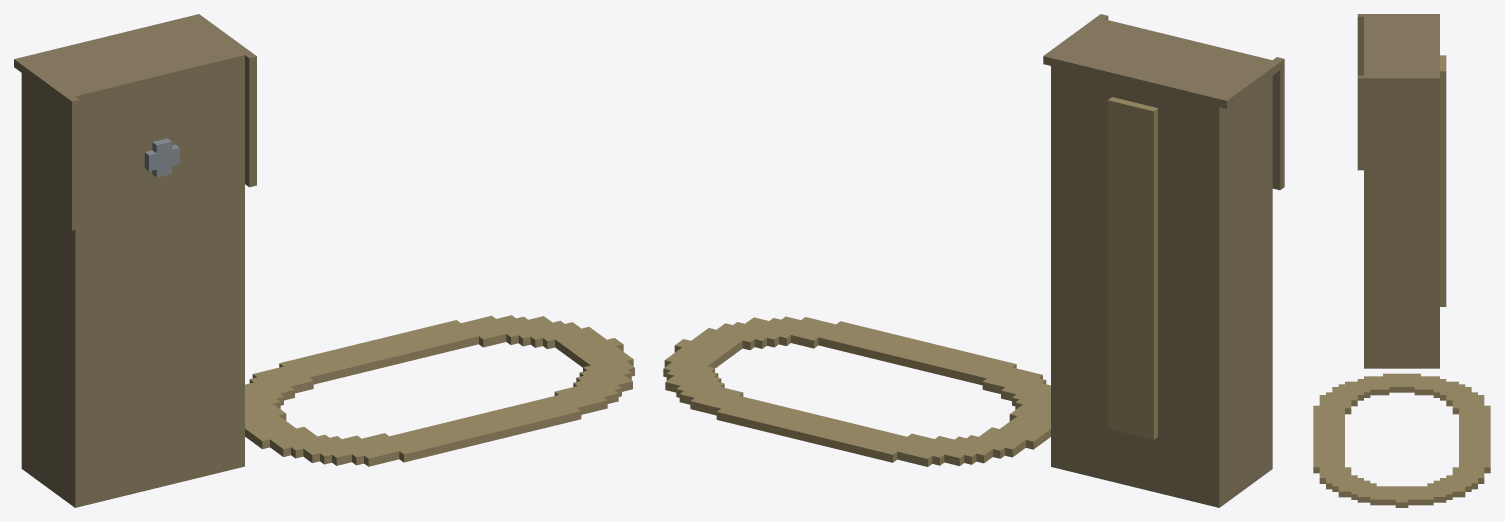
File: chestpouch.glb
3 renders of one model, left to right at view 1: azimuth 30°, elevation 25°; view 2: azimuth 150°, elevation 25°; view 3: azimuth 270°, elevation 25°, orthographic. The views are drawn at different scales.
Parts seen in each view (by area): view 1: chestpouch:compound; view 2: chestpouch:compound; view 3: chestpouch:compound.
Boxes of the visible parts, left/top/right/bottom form: chestpouch:compound: left=14, top=14, right=634, bottom=507; chestpouch:compound: left=663, top=14, right=1284, bottom=507; chestpouch:compound: left=1313, top=14, right=1490, bottom=507.
Size of the model in its own units: 0.3 by 0.204 by 0.112.
